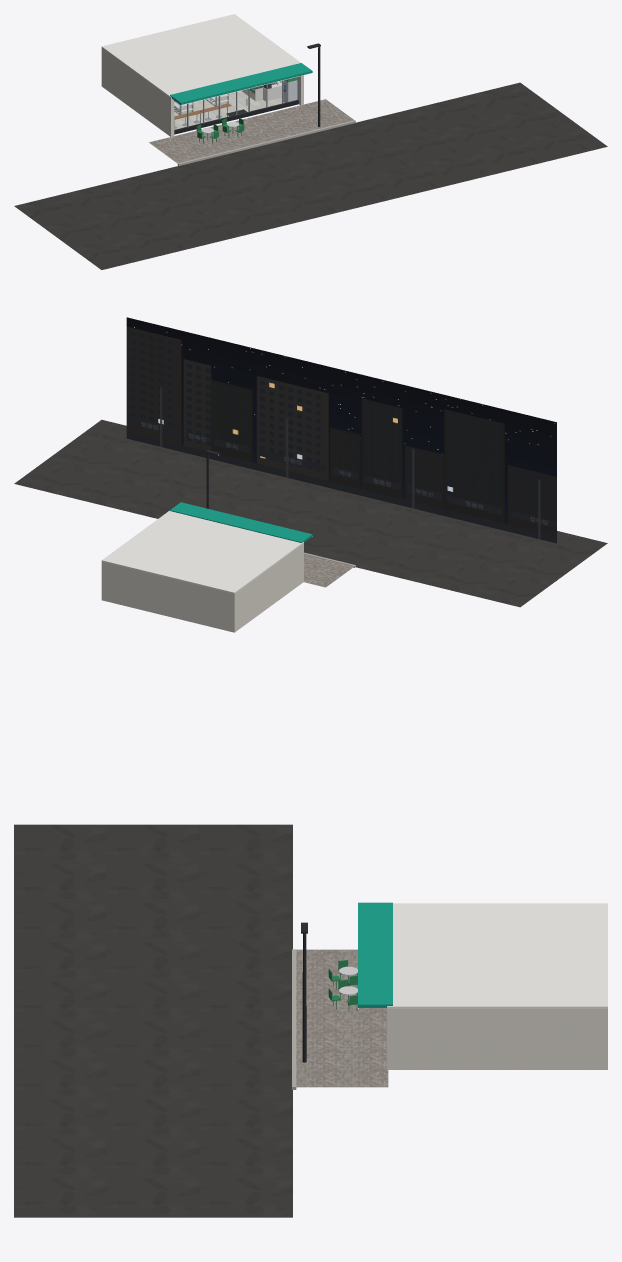
Rendered from store.glb.
3 renders of one model, top to bottom at view 1: azimuth 30°, elevation 25°; view 2: azimuth 150°, elevation 25°; view 3: azimuth 270°, elevation 25°, orthographic. The views are drawn at different scales.
Visible parts, largest first — view 1: Mesh~67, Mesh~10, Mesh~65, Mesh~9, Mesh~68, Mesh~8, Mesh~51, Mesh~52, Mesh~15, Mesh~66, Mesh~20, Mesh~16 (+1 smaller); view 2: Mesh~77, Mesh~67, Mesh~10, Mesh~9, Mesh~68, Mesh~65; view 3: Mesh~67, Mesh~10, Mesh~9, Mesh~65, Mesh~68.
Part boxes in pixels (x1=…): Mesh~67: x1=14, y1=82, x2=607, y2=269; Mesh~10: x1=101, y1=14, x2=300, y2=98; Mesh~65: x1=149, y1=99, x2=353, y2=163; Mesh~9: x1=101, y1=48, x2=303, y2=136; Mesh~68: x1=170, y1=63, x2=312, y2=104; Mesh~8: x1=174, y1=85, x2=284, y2=129; Mesh~51: x1=175, y1=92, x2=235, y2=129; Mesh~52: x1=250, y1=77, x2=297, y2=110; Mesh~15: x1=174, y1=83, x2=298, y2=134; Mesh~66: x1=177, y1=120, x2=355, y2=165; Mesh~20: x1=179, y1=81, x2=281, y2=114; Mesh~16: x1=174, y1=76, x2=298, y2=128; Mesh~77: x1=126, y1=317, x2=556, y2=543; Mesh~67: x1=14, y1=419, x2=607, y2=607; Mesh~10: x1=101, y1=510, x2=303, y2=594; Mesh~9: x1=101, y1=544, x2=303, y2=632; Mesh~68: x1=170, y1=502, x2=312, y2=542; Mesh~65: x1=304, y1=554, x2=354, y2=587; Mesh~67: x1=14, y1=824, x2=292, y2=1217; Mesh~10: x1=387, y1=903, x2=607, y2=1008; Mesh~9: x1=387, y1=1009, x2=607, y2=1069; Mesh~65: x1=296, y1=949, x2=388, y2=1087; Mesh~68: x1=358, y1=902, x2=392, y2=1007.
Size of the model in its own units: 40 by 12 by 25.55.
72 materials, 28 textured.
